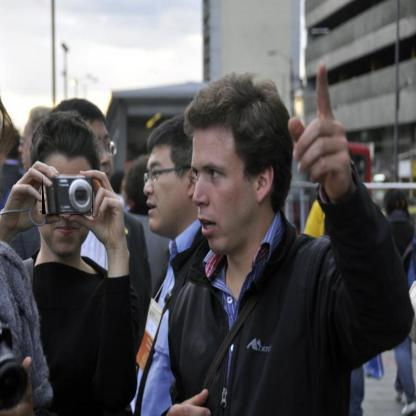Camera: (43, 175, 94, 216)
